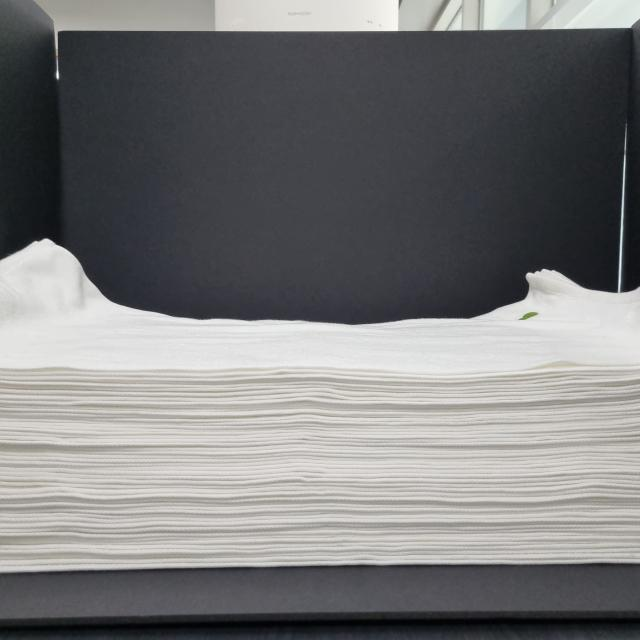50_towel_counts: (0, 207, 640, 600)
